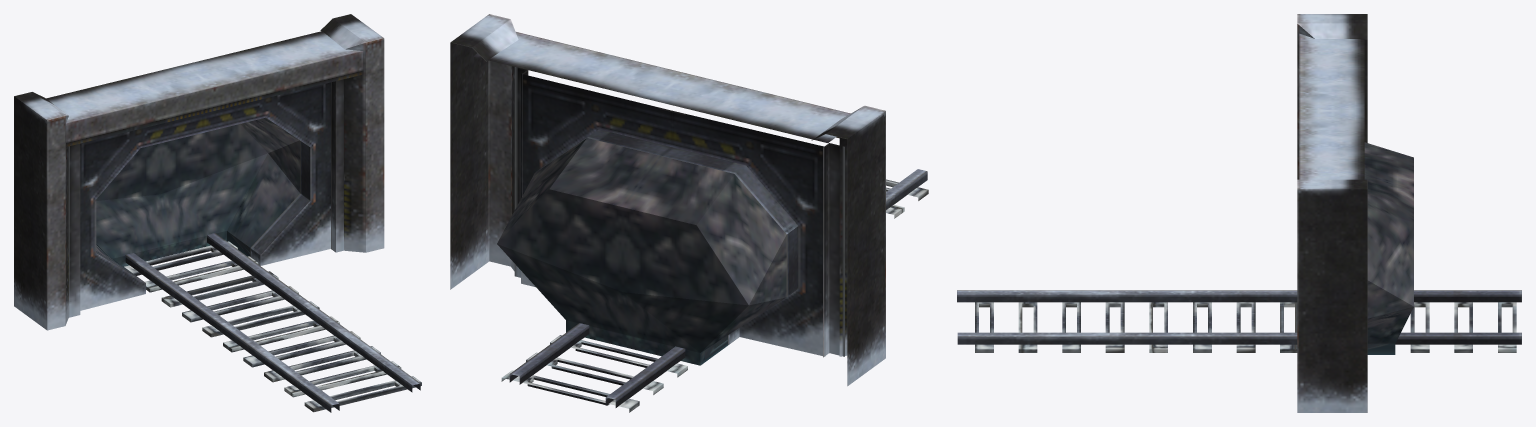
The model's file is yw_xuesebingfeng_tiedaomen01.FBX.
The picture shows the model from 3 angles, left to right: view 1: azimuth 30°, elevation 25°; view 2: azimuth 150°, elevation 25°; view 3: azimuth 270°, elevation 25°; orthographic projection. The views are drawn at different scales.
Parts seen in each view (by area): view 1: yw_xuesebingfeng_tiedaomen01; view 2: yw_xuesebingfeng_tiedaomen01; view 3: yw_xuesebingfeng_tiedaomen01.
Part boxes in pixels (bbox=[...]): yw_xuesebingfeng_tiedaomen01: bbox=[14, 14, 421, 412]; yw_xuesebingfeng_tiedaomen01: bbox=[450, 14, 928, 412]; yw_xuesebingfeng_tiedaomen01: bbox=[957, 14, 1521, 412].
Bounding box in the file's own units: 964 × 574 × 1314.
